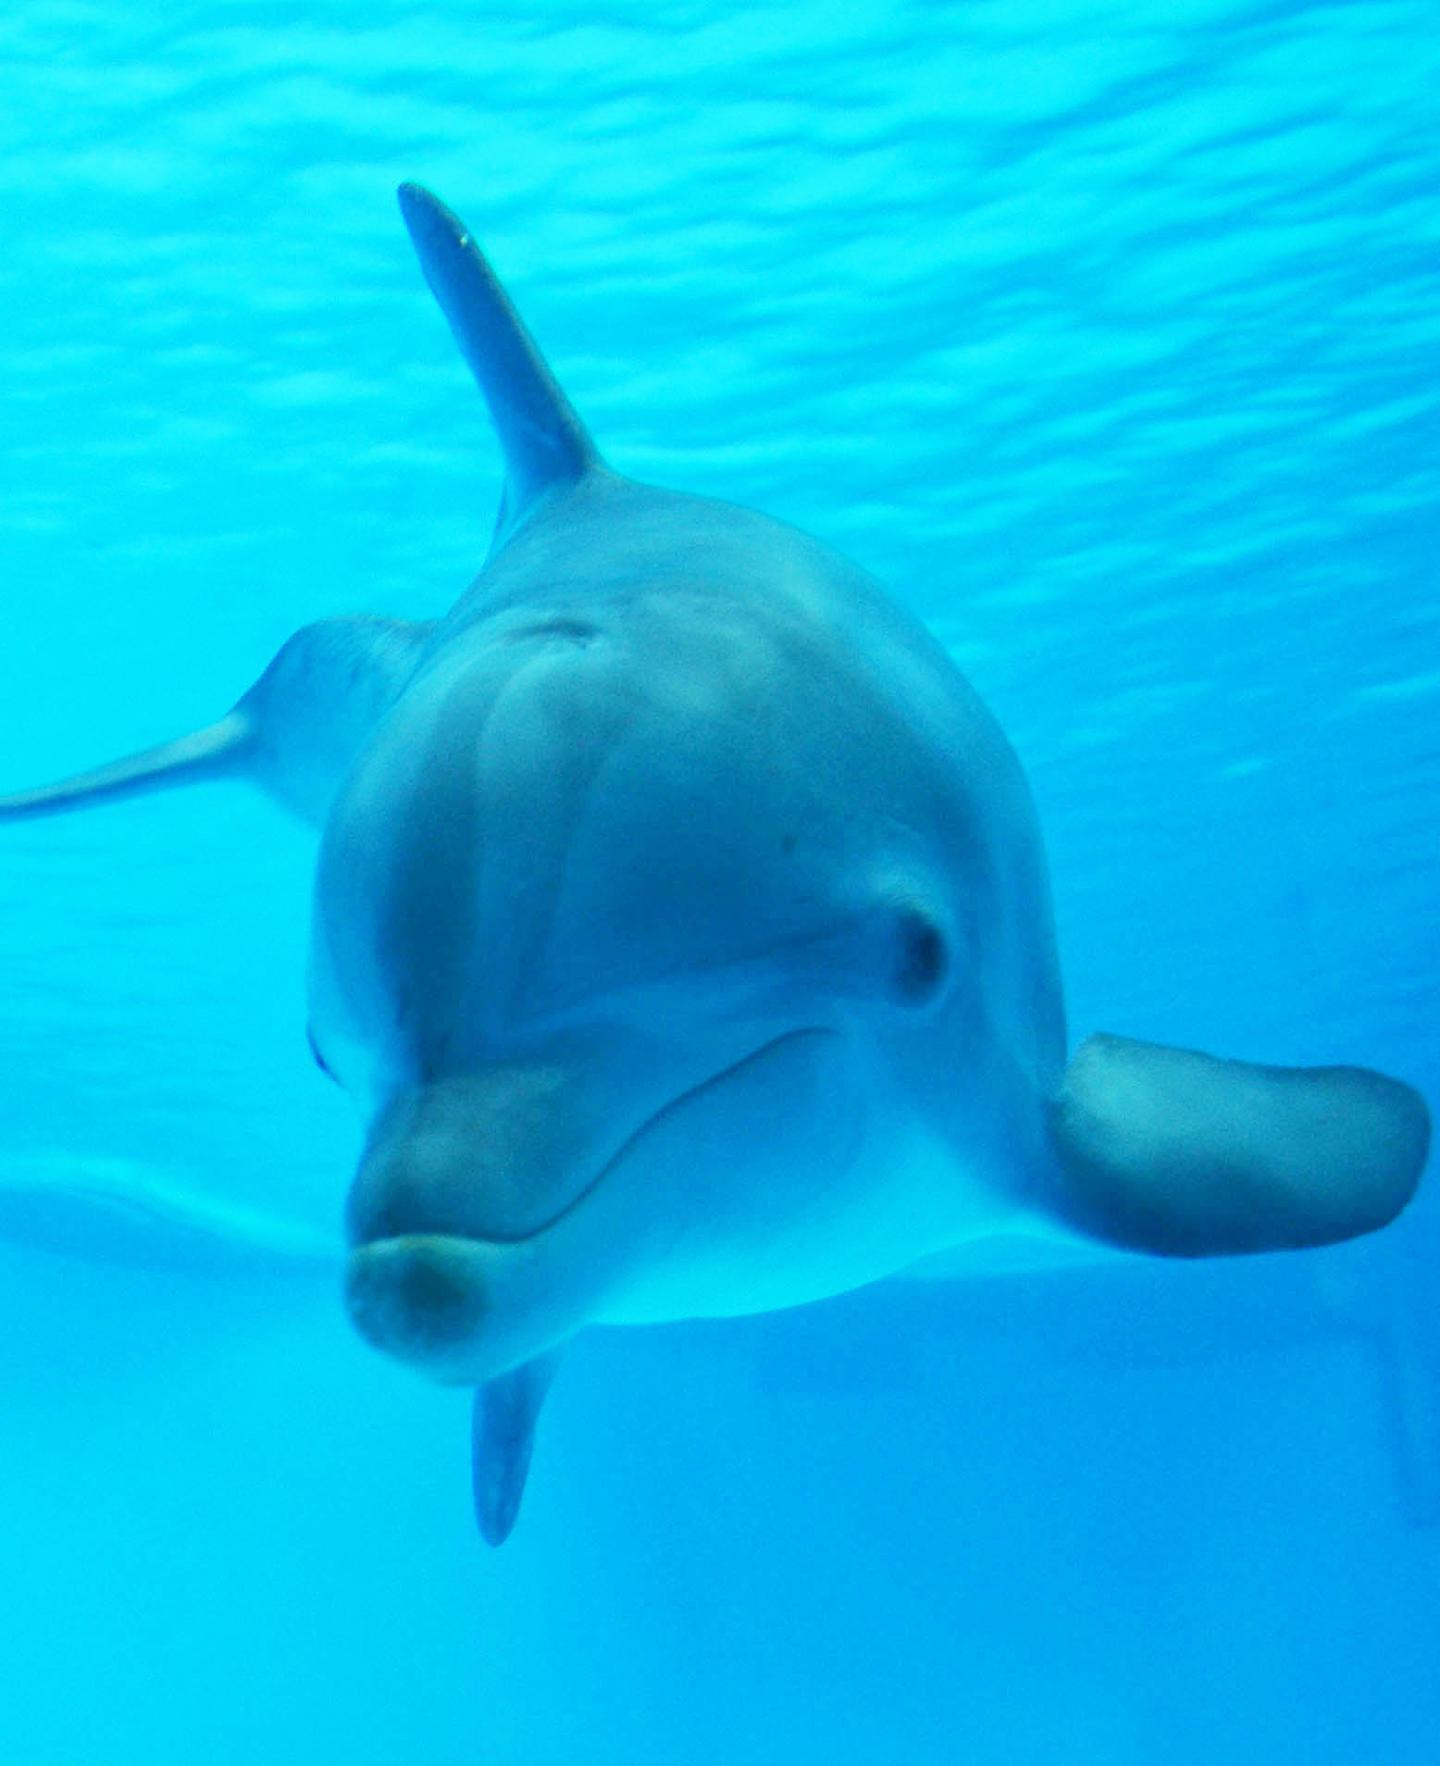dolphin: (23, 197, 1433, 1549)
